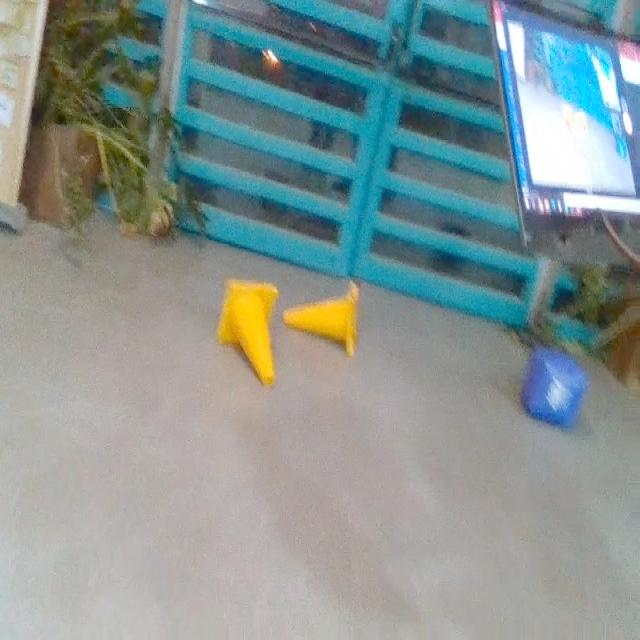cone: (216, 274, 282, 388), (284, 282, 360, 353)
cube: (515, 348, 586, 433)
